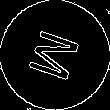M_E: (23, 25, 87, 85)
